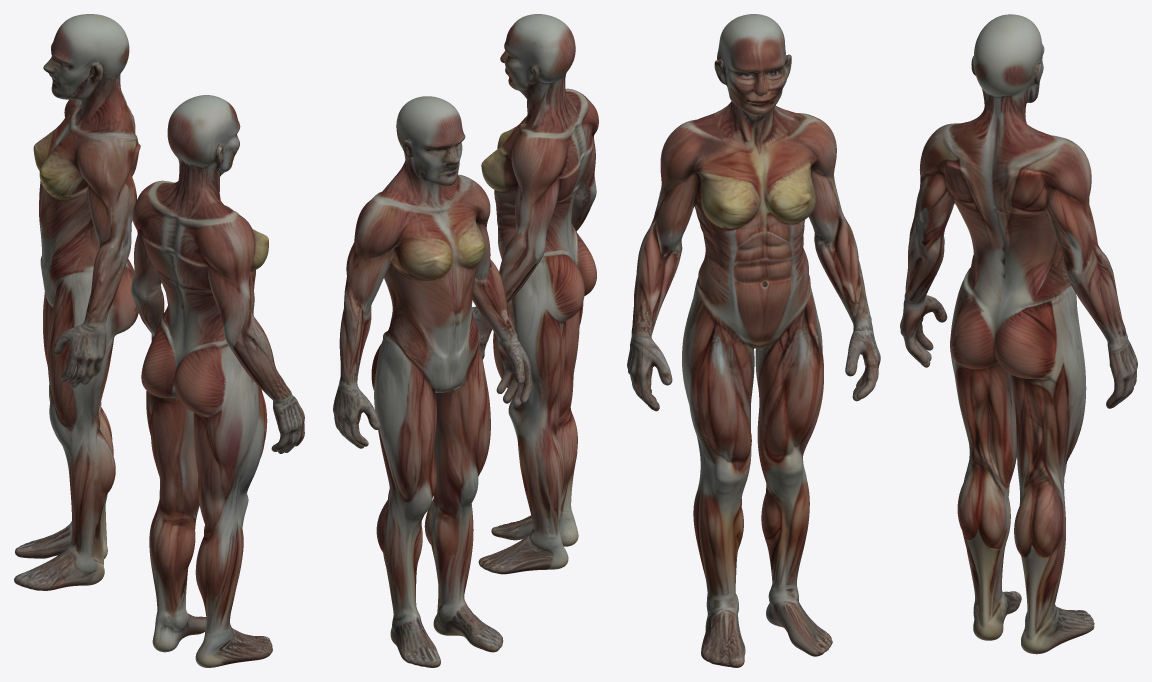
Rendered from woman.glb.
3 renders of one model, left to right at view 1: azimuth 30°, elevation 25°; view 2: azimuth 150°, elevation 25°; view 3: azimuth 270°, elevation 25°, orthographic. The views are drawn at different scales.
Parts seen in each view (by area): view 1: tripo_node_7ea723ee-acaa-4570-9106-9ca28f2a37b2; view 2: tripo_node_7ea723ee-acaa-4570-9106-9ca28f2a37b2; view 3: tripo_node_7ea723ee-acaa-4570-9106-9ca28f2a37b2.
Boxes of the visible parts, x1,y1,x2,y2 form: tripo_node_7ea723ee-acaa-4570-9106-9ca28f2a37b2: [14, 14, 304, 667]; tripo_node_7ea723ee-acaa-4570-9106-9ca28f2a37b2: [333, 14, 598, 667]; tripo_node_7ea723ee-acaa-4570-9106-9ca28f2a37b2: [627, 14, 1137, 667].
Size of the model in its own units: 0.245 by 1 by 0.74.
1 material, 1 textured.
